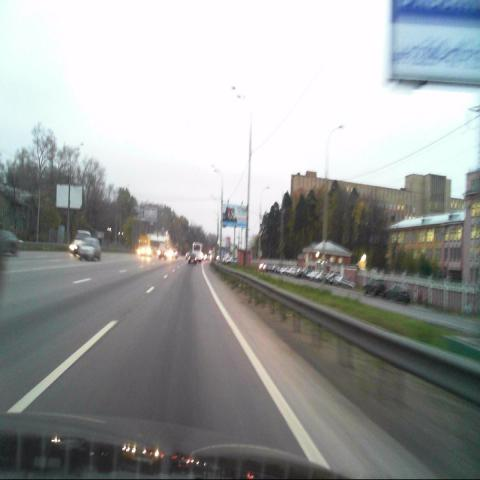2_1: (358, 258, 366, 271)
